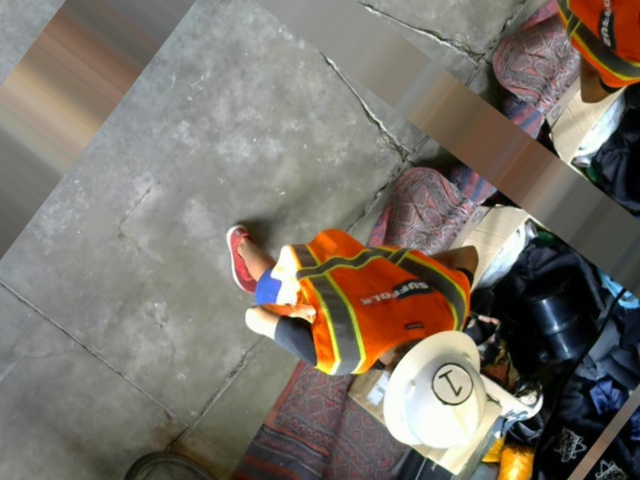one: (423, 356, 479, 413)
